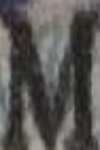M: (0, 0, 99, 149)
